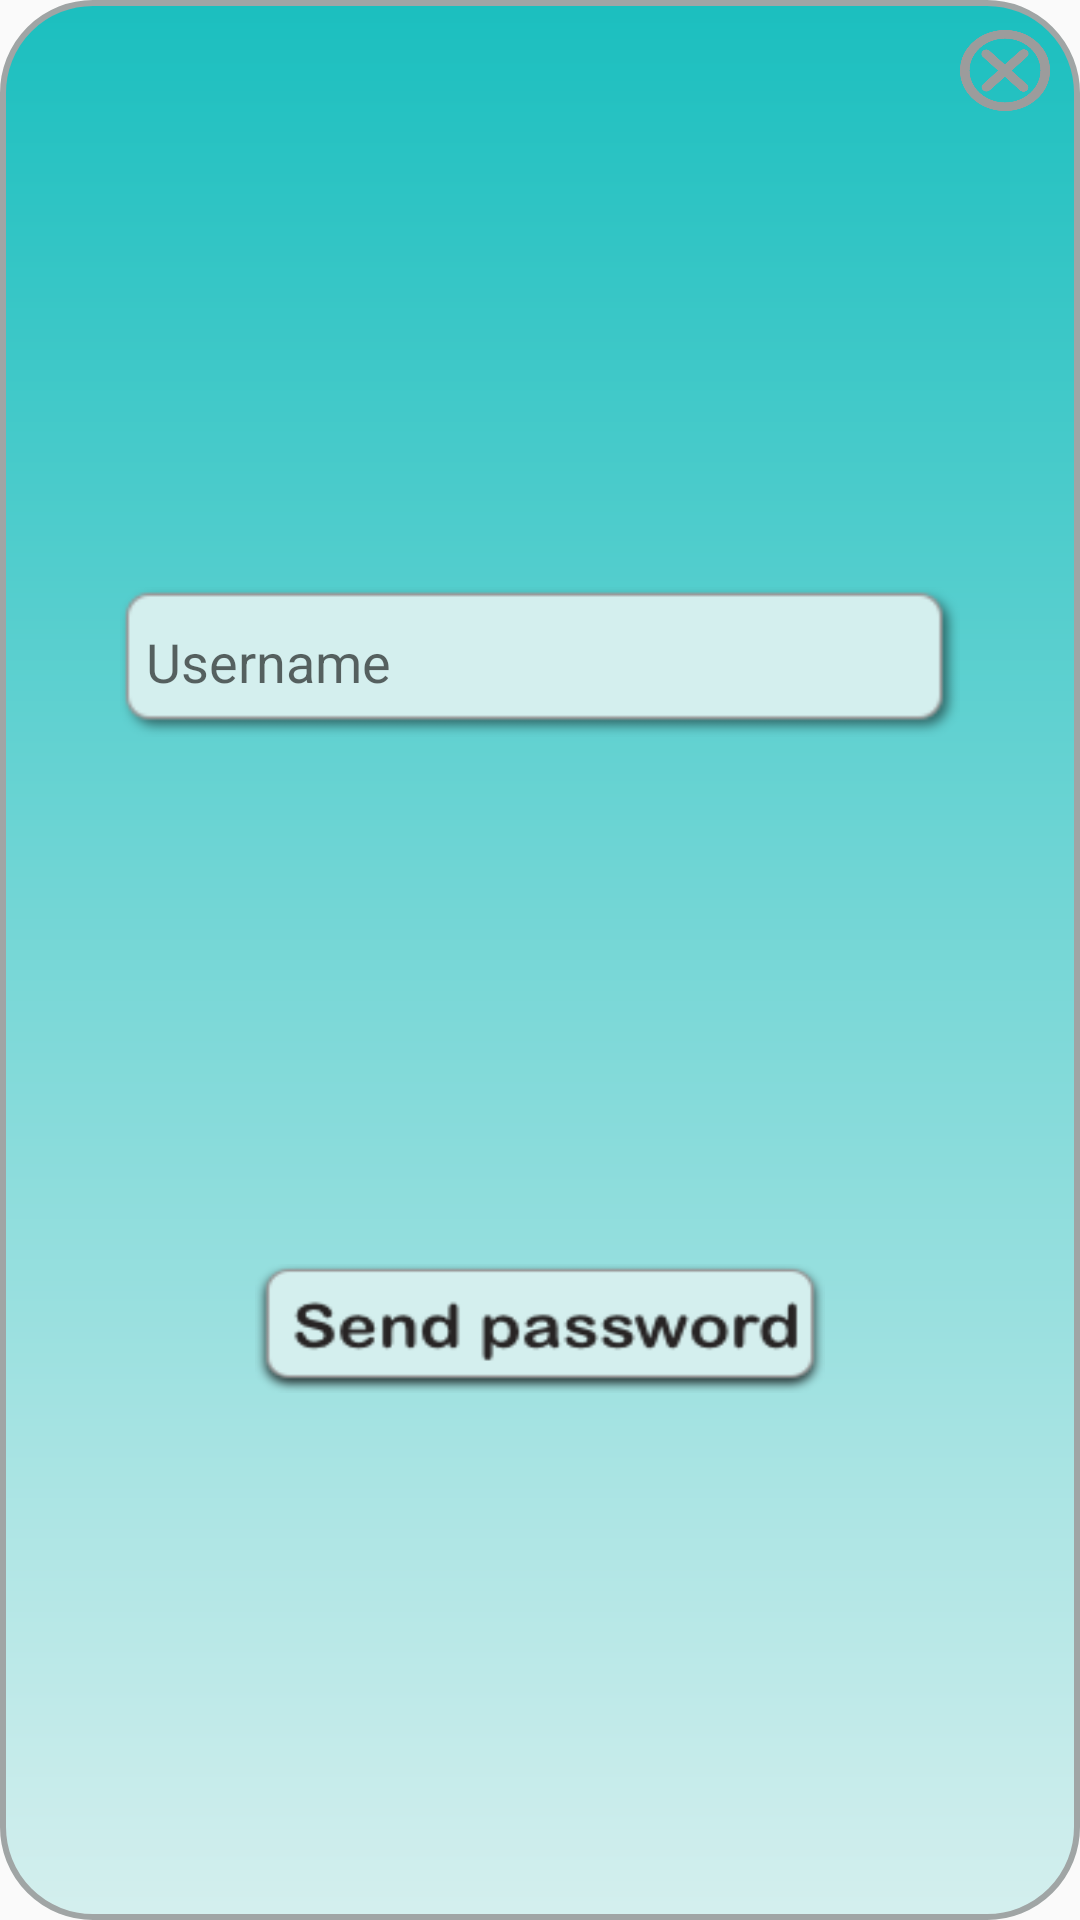

Icons on this 1080w x 1920h Android screen, each with its box as (x1, y1, x2, y2):
exit: (960, 30, 1050, 111)
